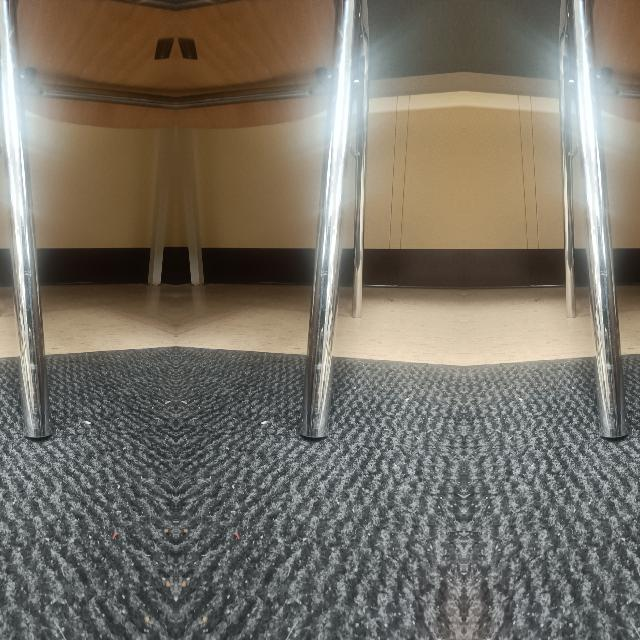obstacle: (296, 188, 359, 452), (568, 188, 630, 452), (0, 188, 53, 451)
